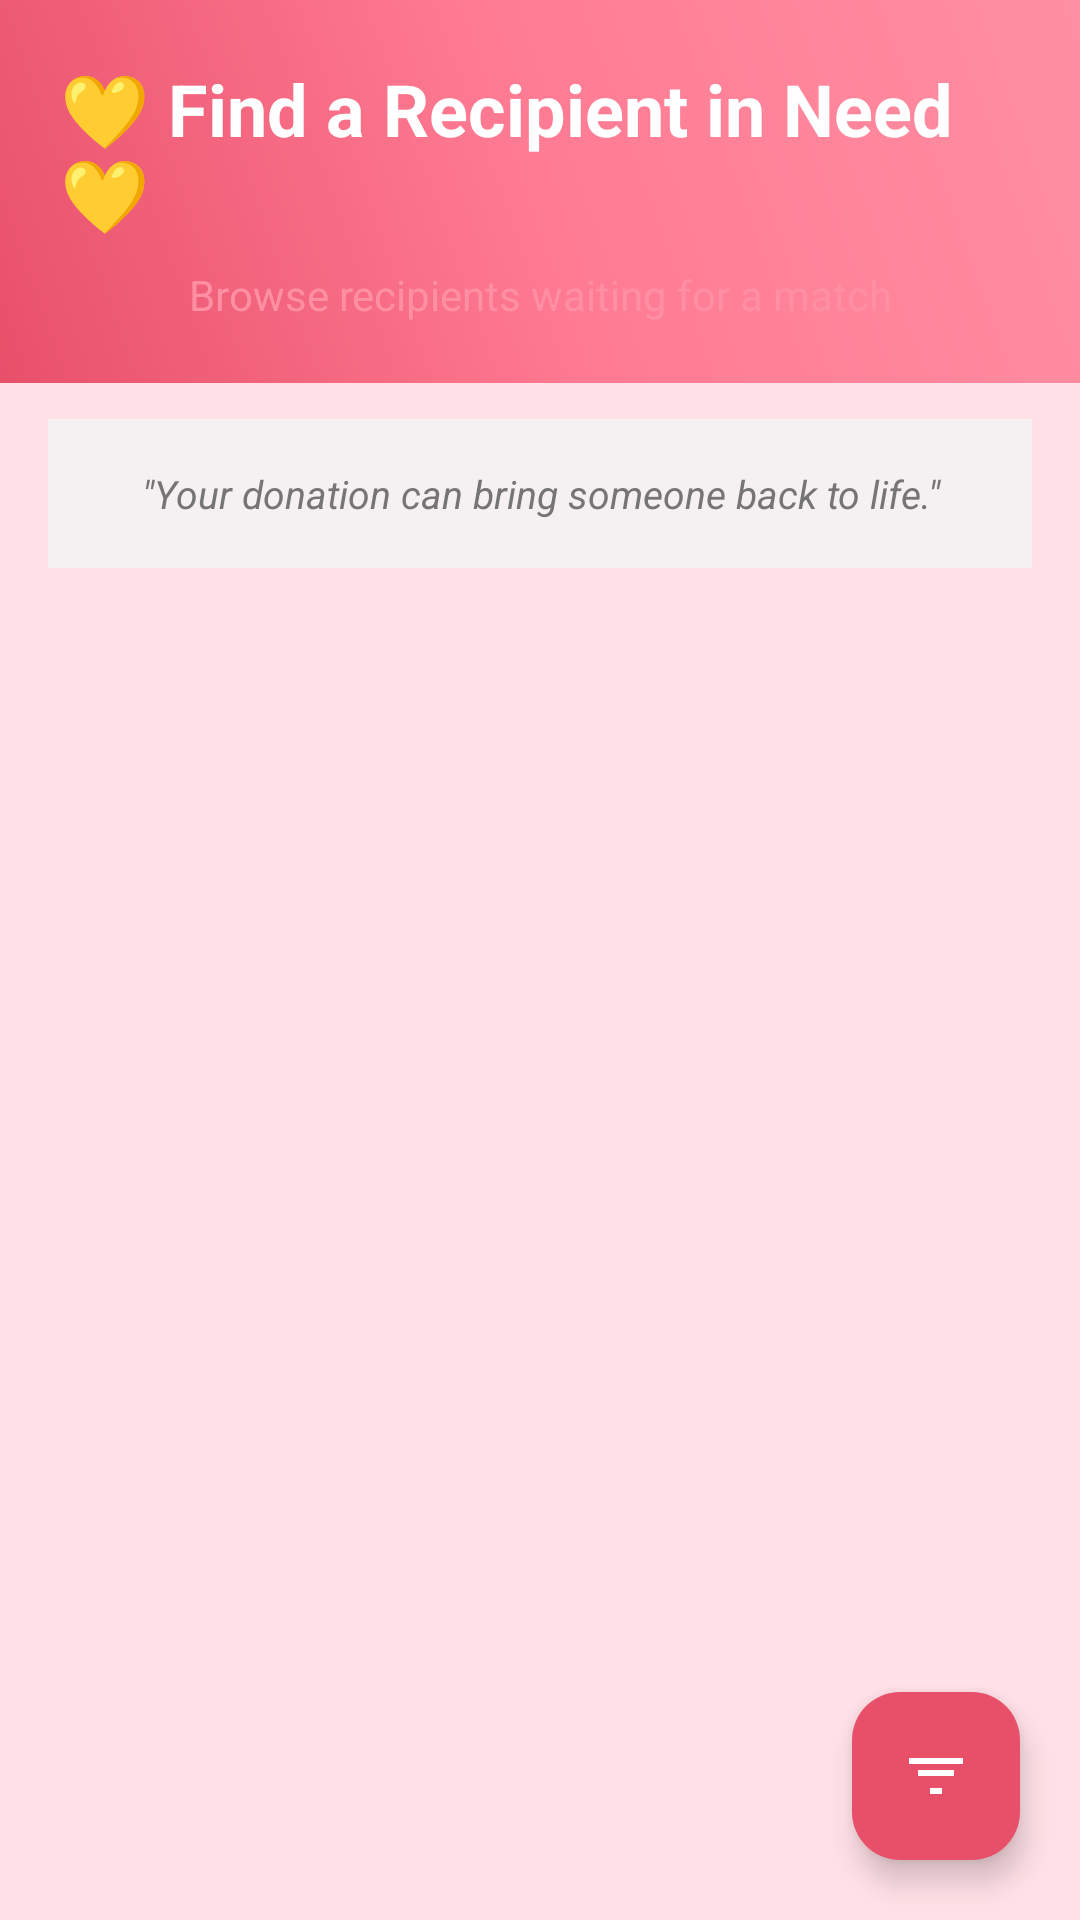

Point at icon controls on the screen. Image size 1080*1920, points as (x=x, y=y).
Filter recipients: (x=936, y=1776)
